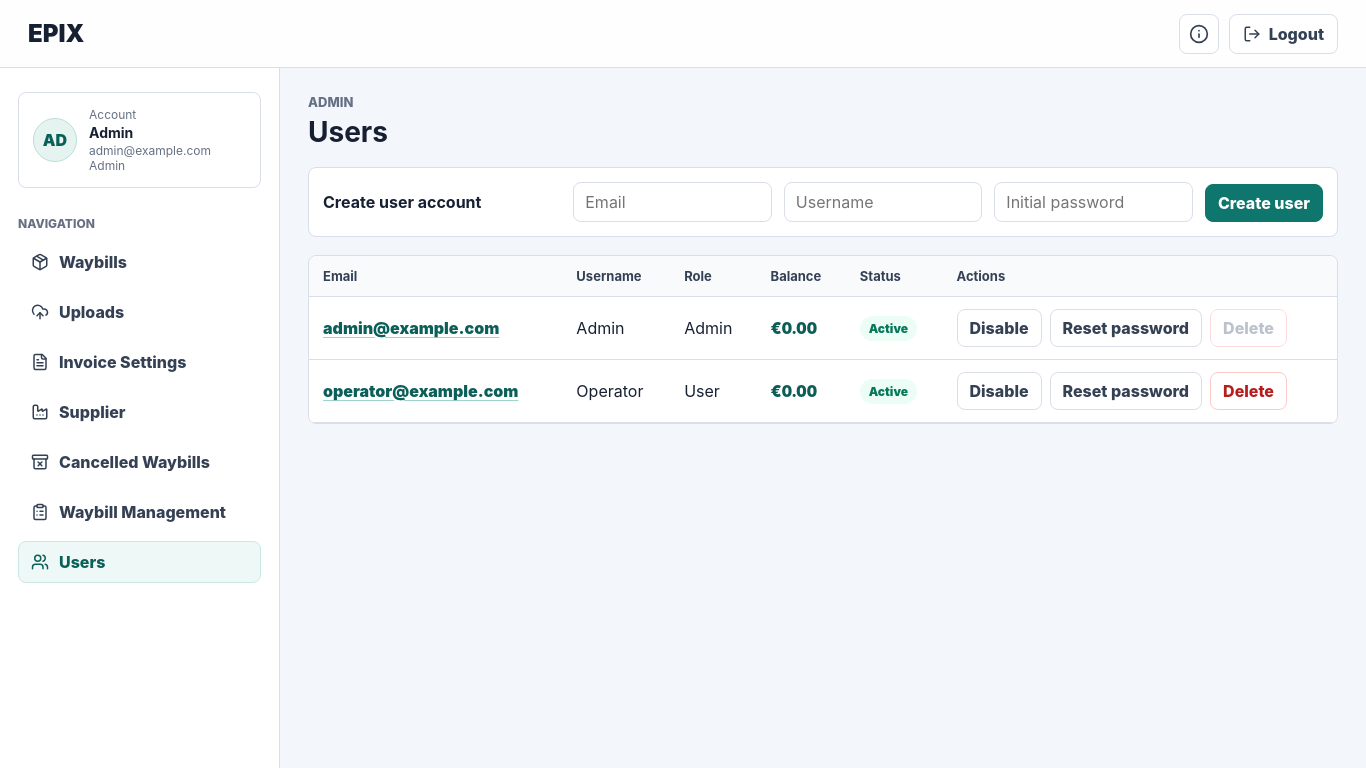
Test: UsersPage › cancels a recharge and displays the correcting ledger entry
This screenshot has width=1366, height=768.
Click the button "operator@example.com" at {"x": 421, "y": 391}, box [323,381,518,401]
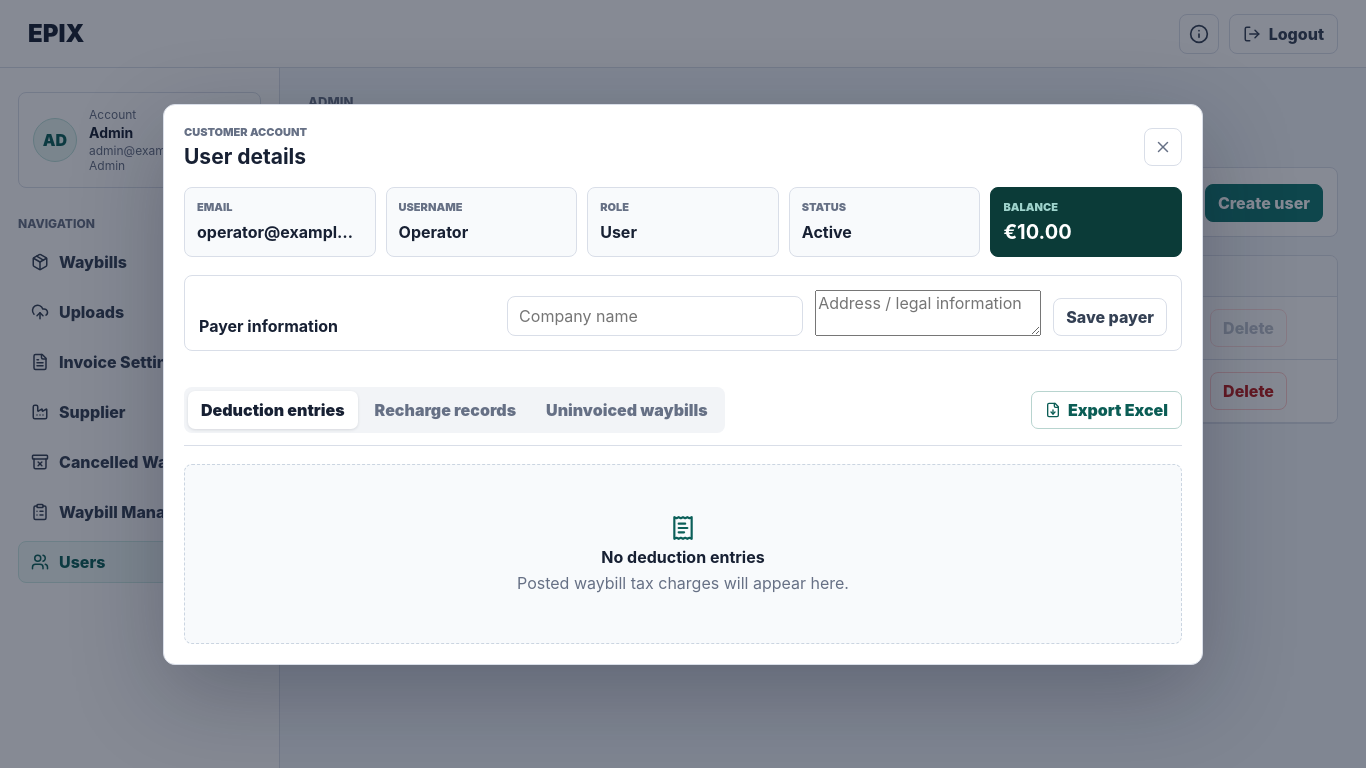
Click the tab "Recharge records" at {"x": 445, "y": 410}, box [362,390,529,428]
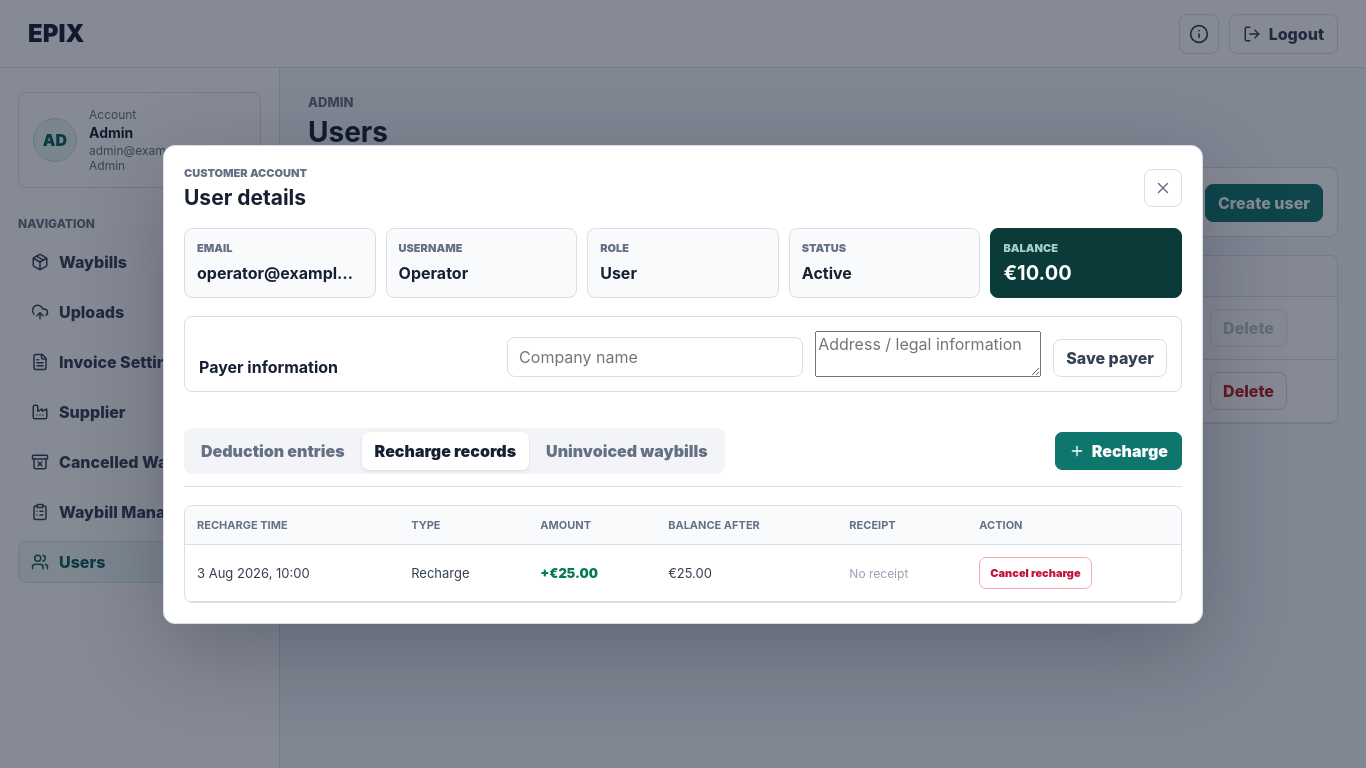
Click the button "Cancel recharge" at {"x": 1035, "y": 572}, box [979,556,1092,588]
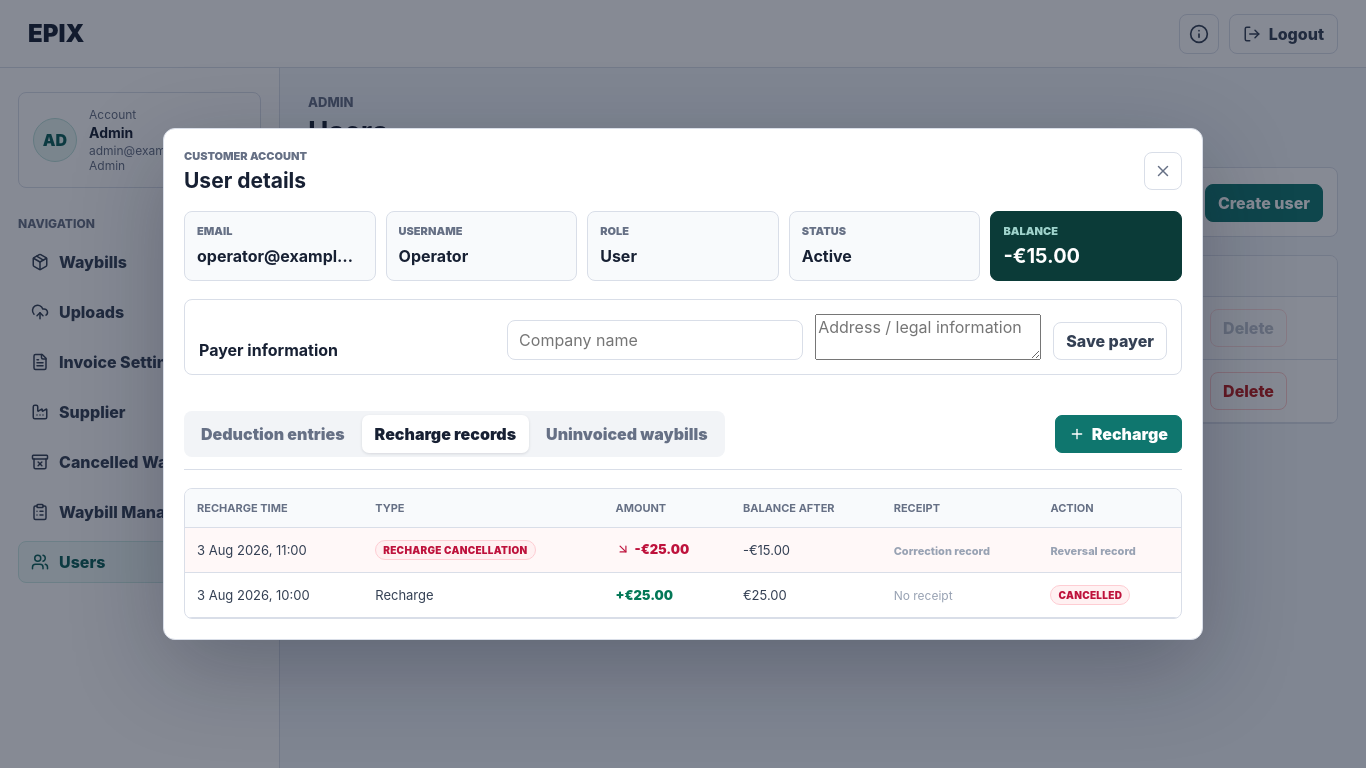
Now the text "Recharge cancellation" is shown, box [375,540,536,560]
Now the text "-€25.00" is shown, box [616,541,689,557]
Now the text "Cancelled" is shown, box [1050,585,1130,605]
